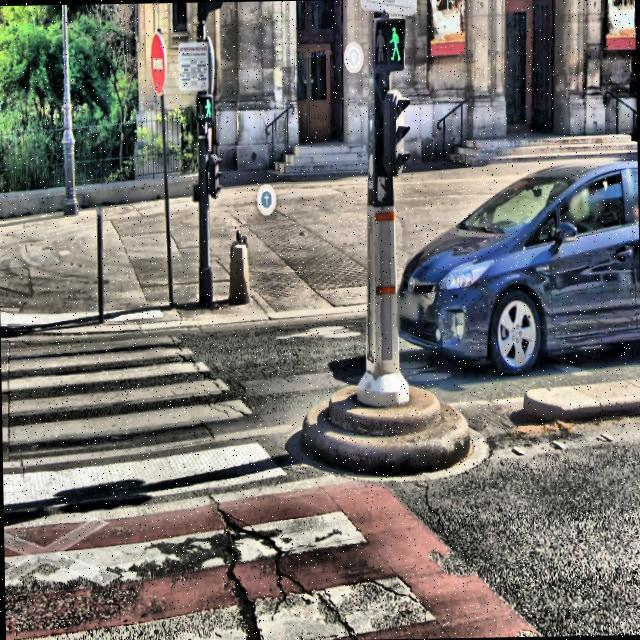green_light: (386, 18, 402, 64), (202, 95, 211, 117)
